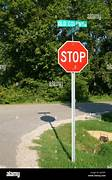stop: (57, 41, 89, 74)
